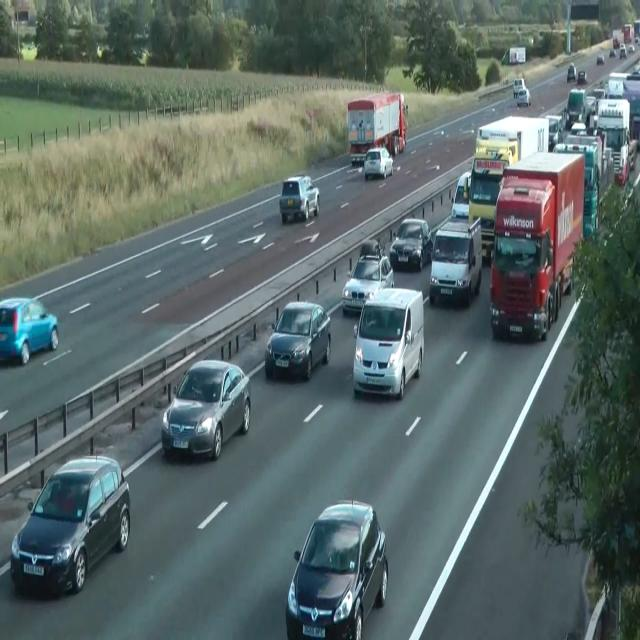bus: (10, 454, 130, 598), (286, 499, 388, 639), (161, 358, 251, 461), (264, 300, 331, 380), (0, 295, 58, 365), (342, 238, 394, 316), (389, 217, 433, 271), (279, 174, 320, 223), (363, 146, 393, 180), (451, 170, 472, 218), (19, 41, 39, 60), (517, 87, 531, 108), (513, 77, 525, 98), (569, 122, 587, 136), (567, 63, 575, 82), (576, 70, 586, 84), (619, 42, 627, 58), (632, 63, 640, 75), (596, 53, 604, 64), (609, 49, 615, 58), (628, 44, 634, 52)
car: (448, 72, 638, 341)
jeep: (352, 286, 424, 399), (428, 215, 482, 306)
minibus: (489, 150, 585, 342), (468, 115, 550, 264), (552, 132, 606, 242), (347, 91, 407, 167), (468, 154, 507, 263), (475, 115, 549, 167), (595, 98, 631, 186), (607, 71, 639, 147), (612, 23, 634, 48), (501, 45, 525, 65)
